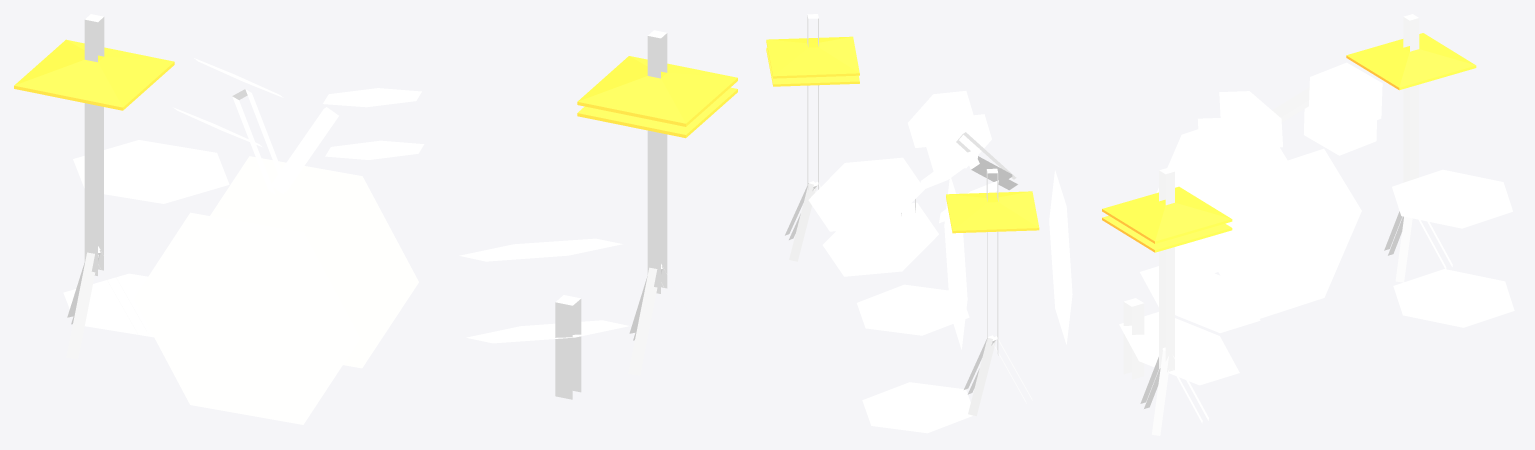
The model's file is Prop_Instrument_Drum_Kit_Ultra_Low_Poly.glb.
3 views of the same model, side by side, from view 1: azimuth 30°, elevation 25°; view 2: azimuth 150°, elevation 25°; view 3: azimuth 270°, elevation 25° (orthographic). The views are drawn at different scales.
Parts seen in each view (by area): view 1: unnamed; view 2: unnamed; view 3: unnamed.
Part boxes in pixels (bbox=[...]): unnamed: bbox=[14, 14, 737, 424]; unnamed: bbox=[766, 14, 1072, 433]; unnamed: bbox=[1102, 14, 1514, 435].
Size of the model in its own units: 8.25 by 4.71 by 7.
Materials: 1 (1 with a texture image).
